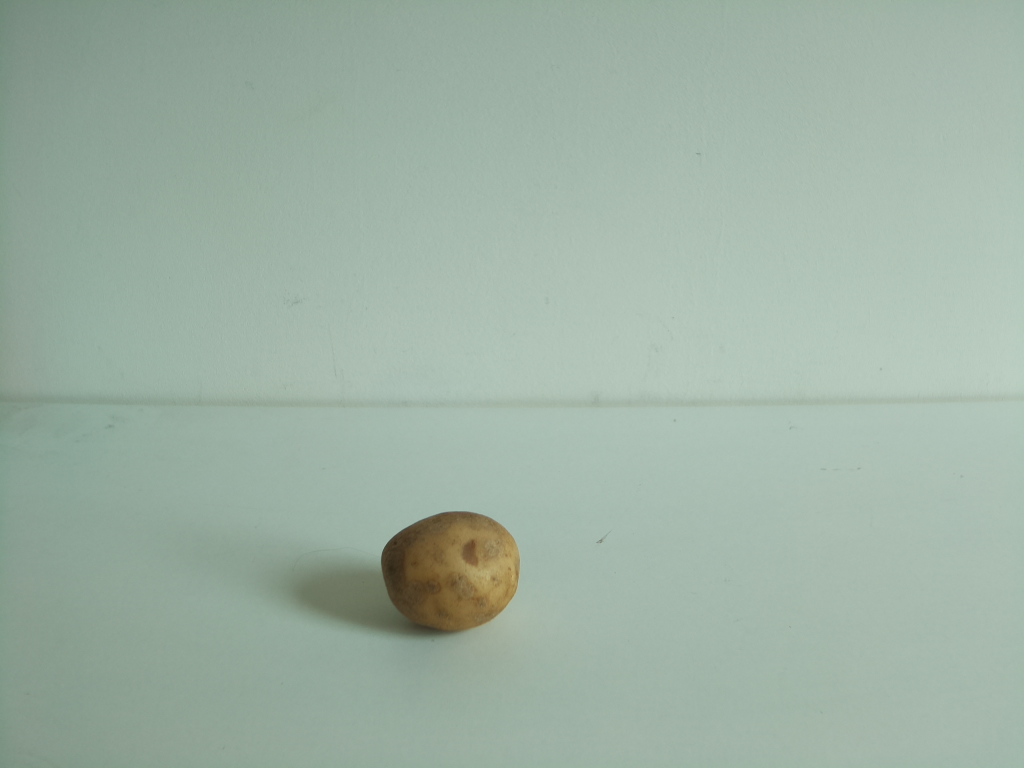potatoes: (377, 510, 522, 635)
